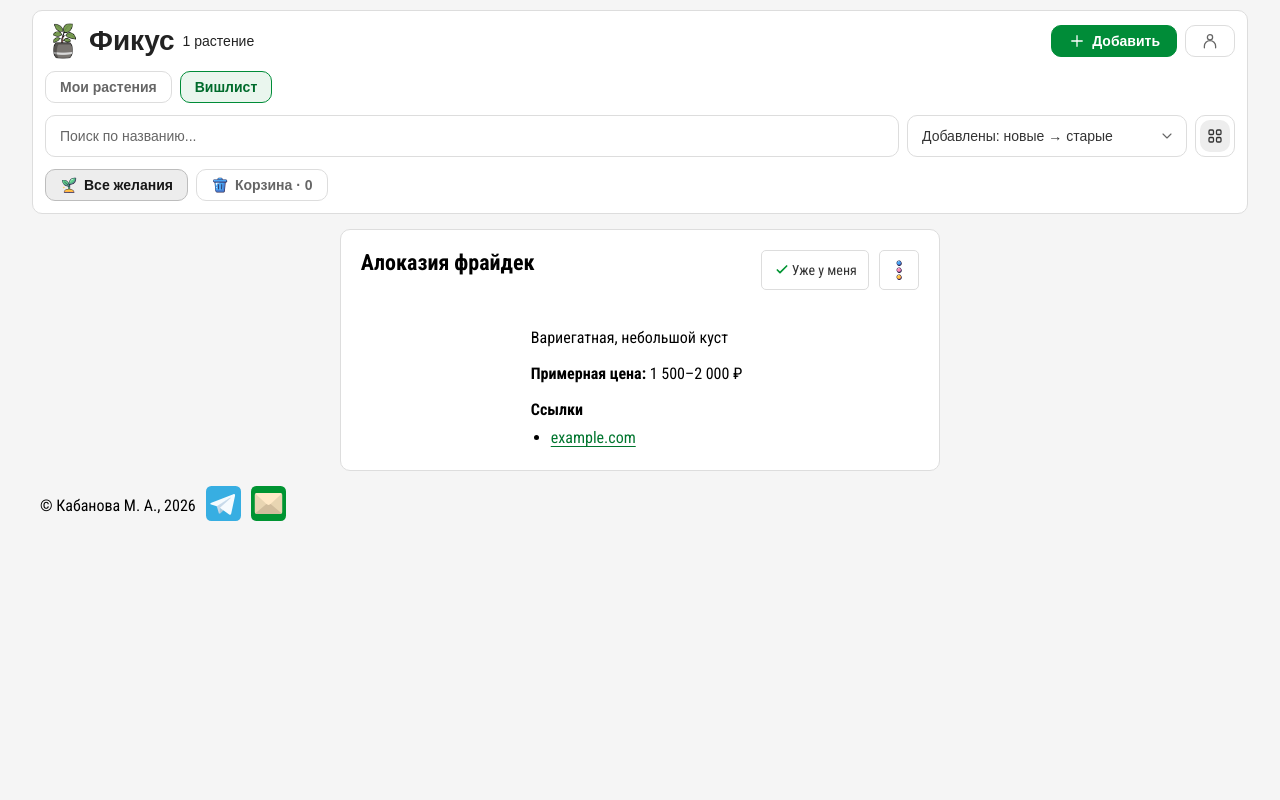
Test: keeps acquisition visible and reveals edit/delete through the dots button
The image size is (1280, 800).
Expected: the button "Уже у меня" is shown, [761, 250, 869, 290]
Click the button named "Действия с растением" at (899, 270), box [879, 250, 919, 290]
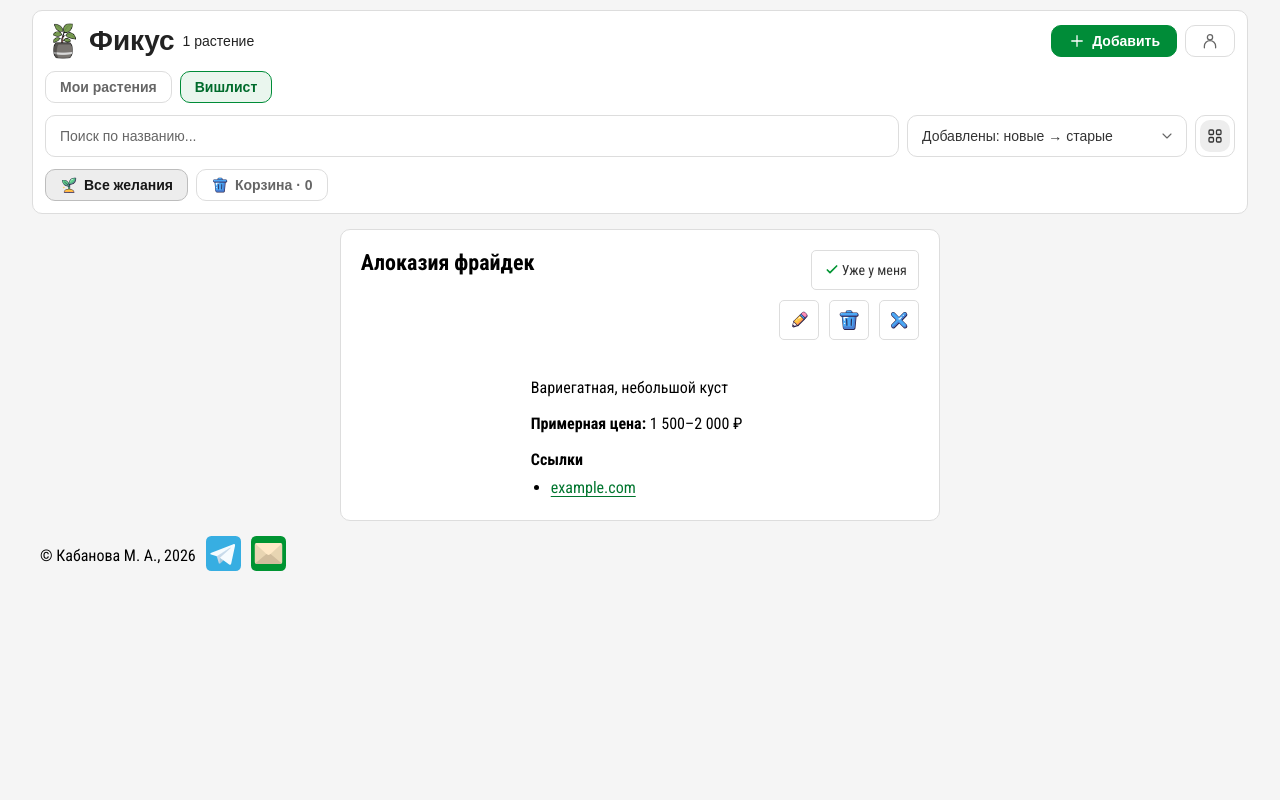
Now the button named "Действия с растением" is expanded, box [879, 300, 919, 340]
Now the button named "Редактировать" is shown, box [779, 300, 819, 340]
Now the button named "Удалить" is shown, box [829, 300, 869, 340]
Press Escape in the list item "Алоказия фрайдек", box [340, 229, 940, 521]
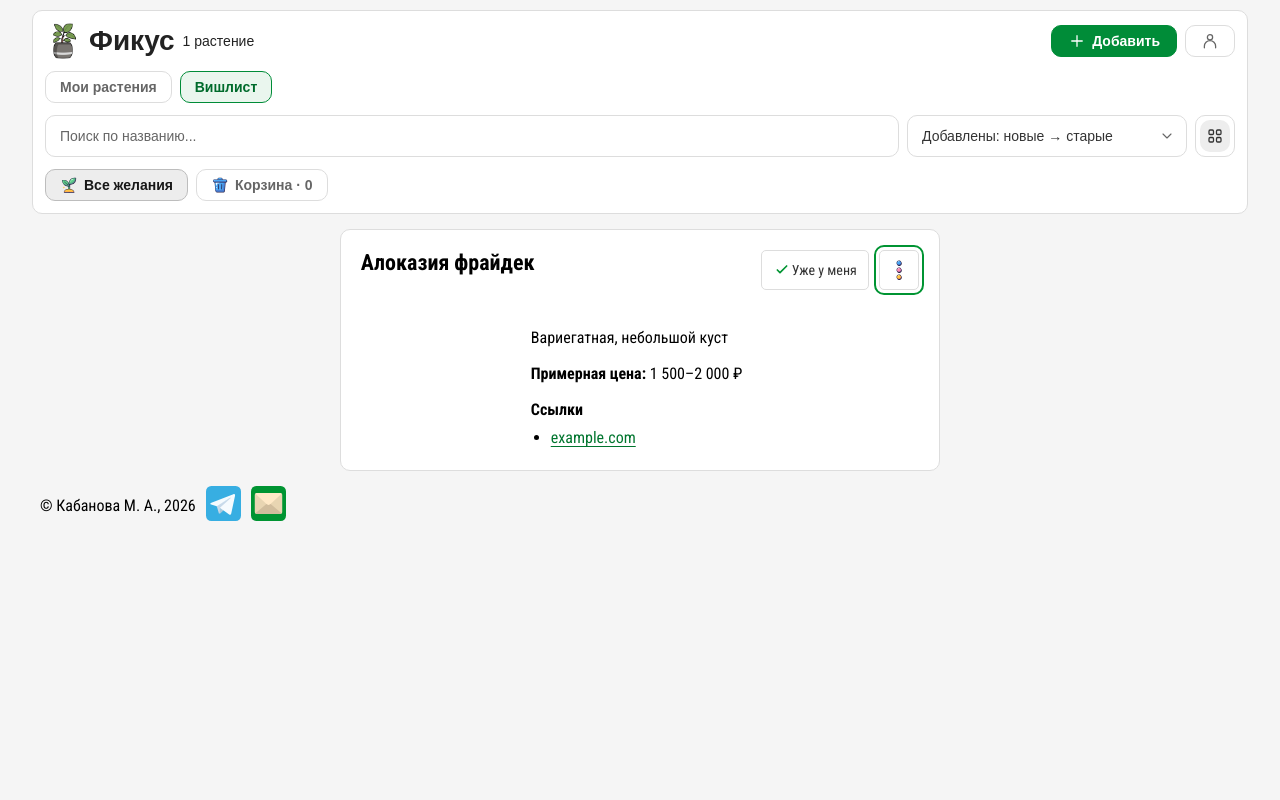
Now the button named "Действия с растением" is collapsed
Now the button "Редактировать" is gone
Click the button named "Действия с растением" at (899, 270), box [879, 250, 919, 290]
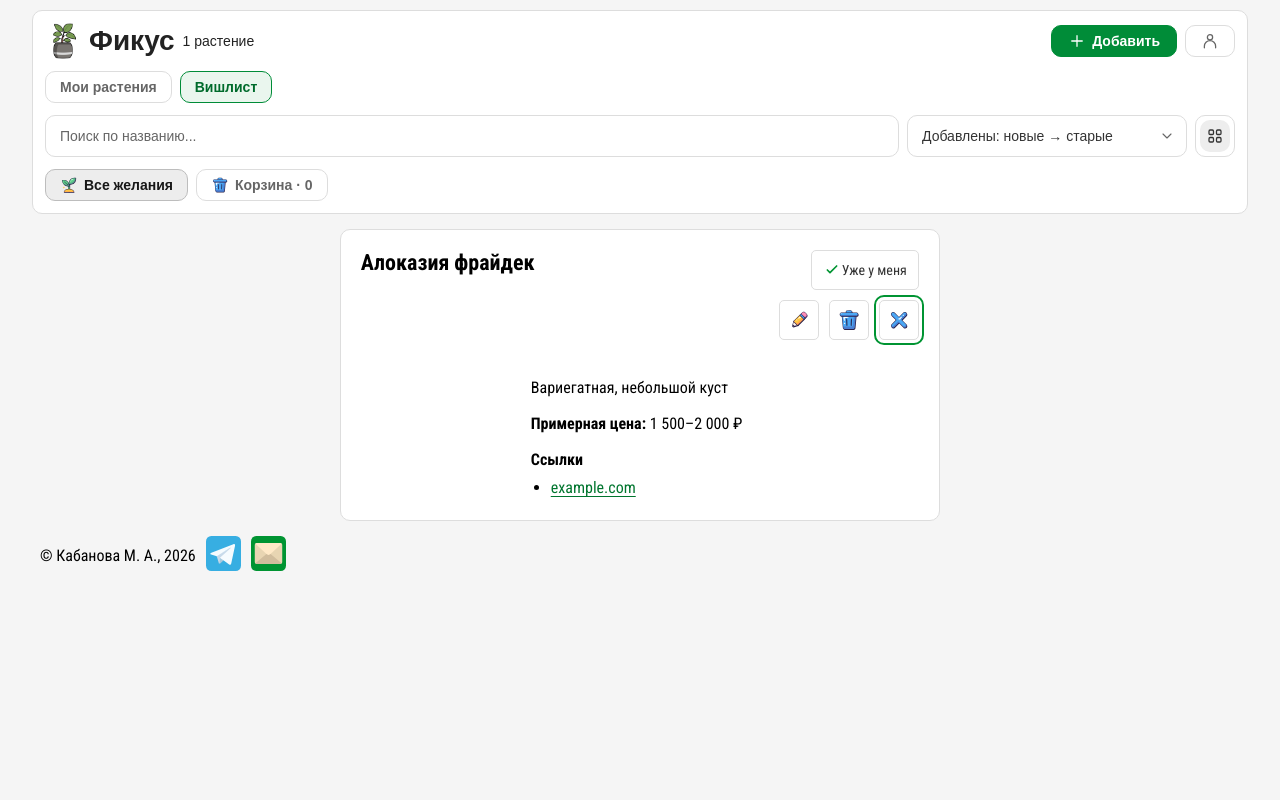
Move the pointer off the list item "Алоказия фрайдек", box [340, 229, 940, 521]
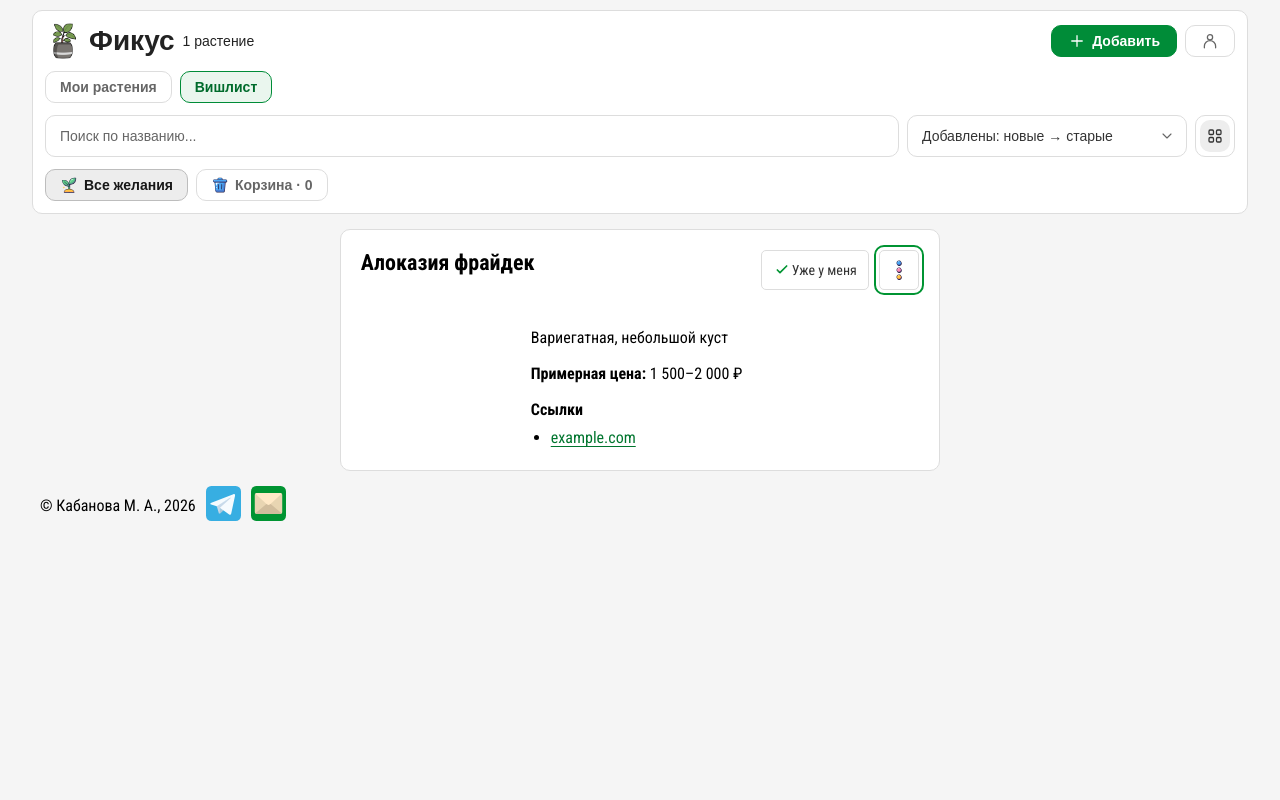
Now the button named "Действия с растением" is collapsed, box [879, 250, 919, 290]
Now the button "Удалить" is gone
